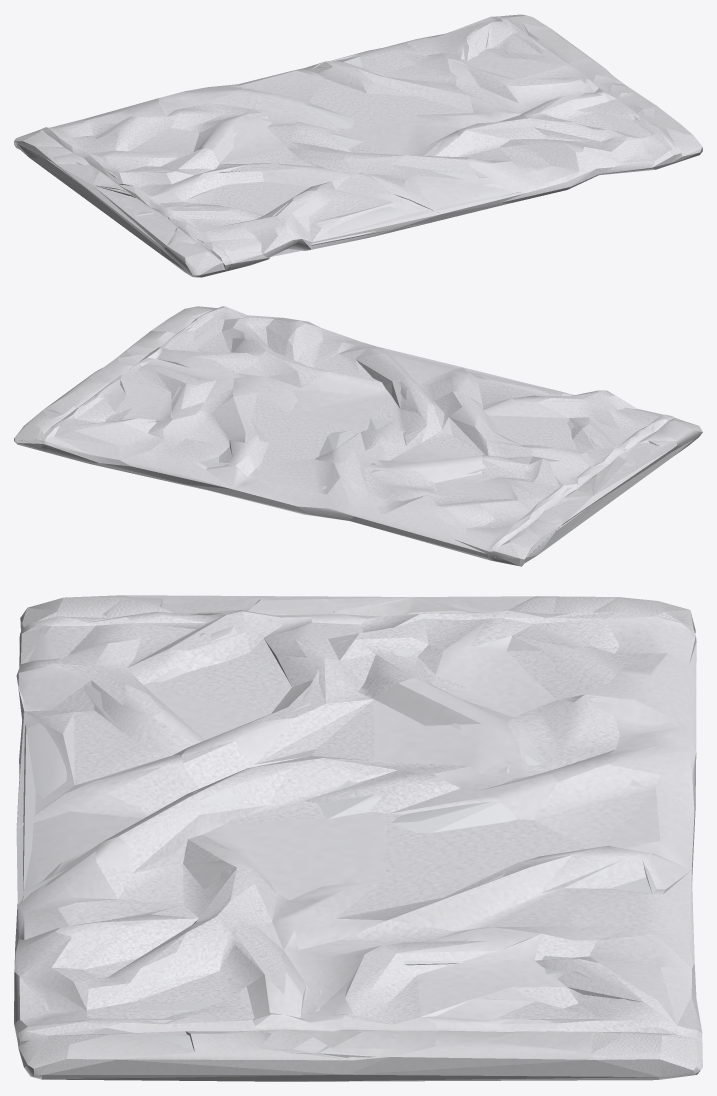
The model's file is Meshy_AI_model3.glb.
The picture shows the model from 3 angles, top to bottom: view 1: azimuth 30°, elevation 25°; view 2: azimuth 150°, elevation 25°; view 3: azimuth 270°, elevation 25°; orthographic projection. The views are drawn at different scales.
Visible parts, largest first — view 1: output_unwrapped; view 2: output_unwrapped; view 3: output_unwrapped.
Part boxes in pixels (bbox=[...]): output_unwrapped: bbox=[14, 14, 702, 277]; output_unwrapped: bbox=[14, 306, 702, 566]; output_unwrapped: bbox=[14, 595, 702, 1081].
Size of the model in its own units: 1.9 by 0.1165 by 1.2.
Materials: 1 (1 with a texture image).
